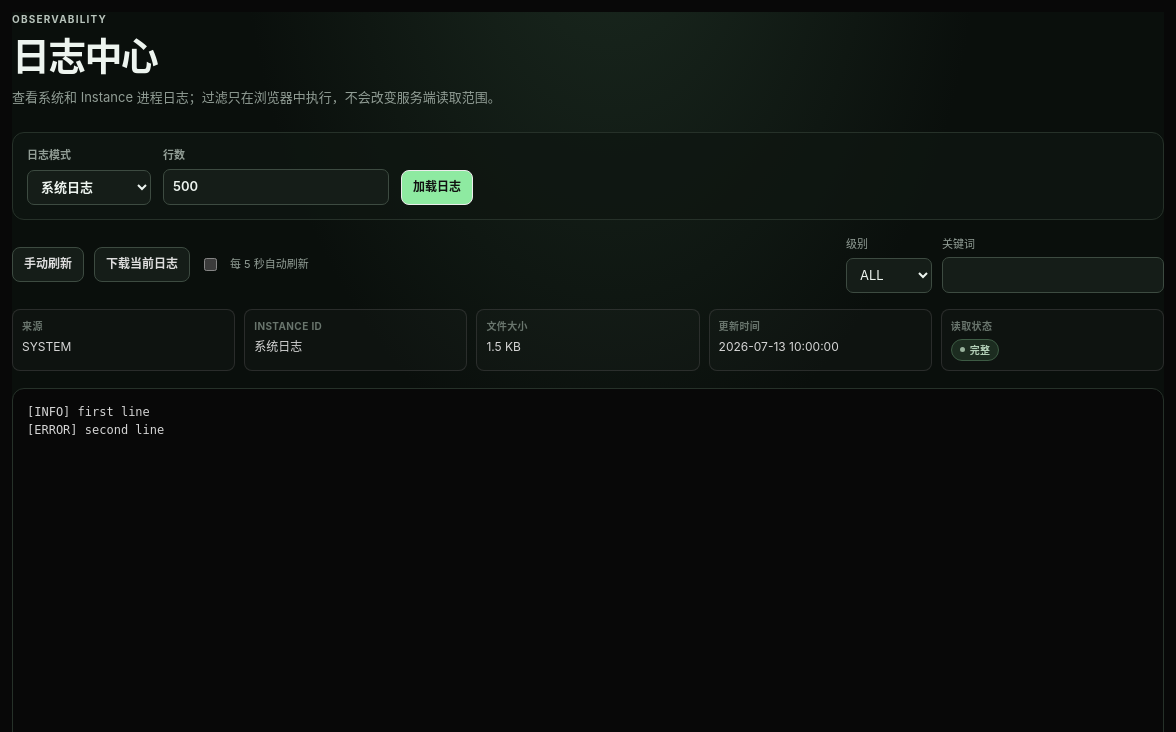
Test: LogsPage › rejects blank Instance IDs and invalid line counts without issuing a request
This screenshot has width=1176, height=732.
Select "Instance 日志" in the dropdown labelled "日志模式" at (89, 187), box [27,170,151,205]
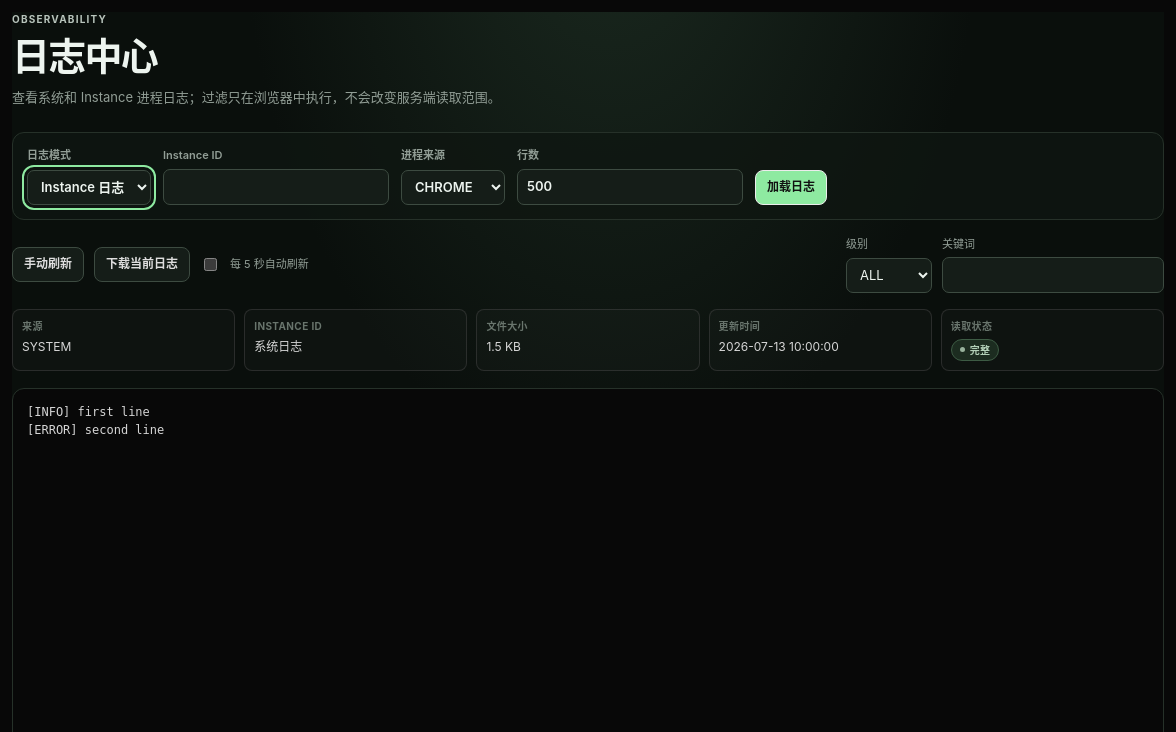
Click the button "加载日志".
click(791, 187)  # box [755,170,827,205]
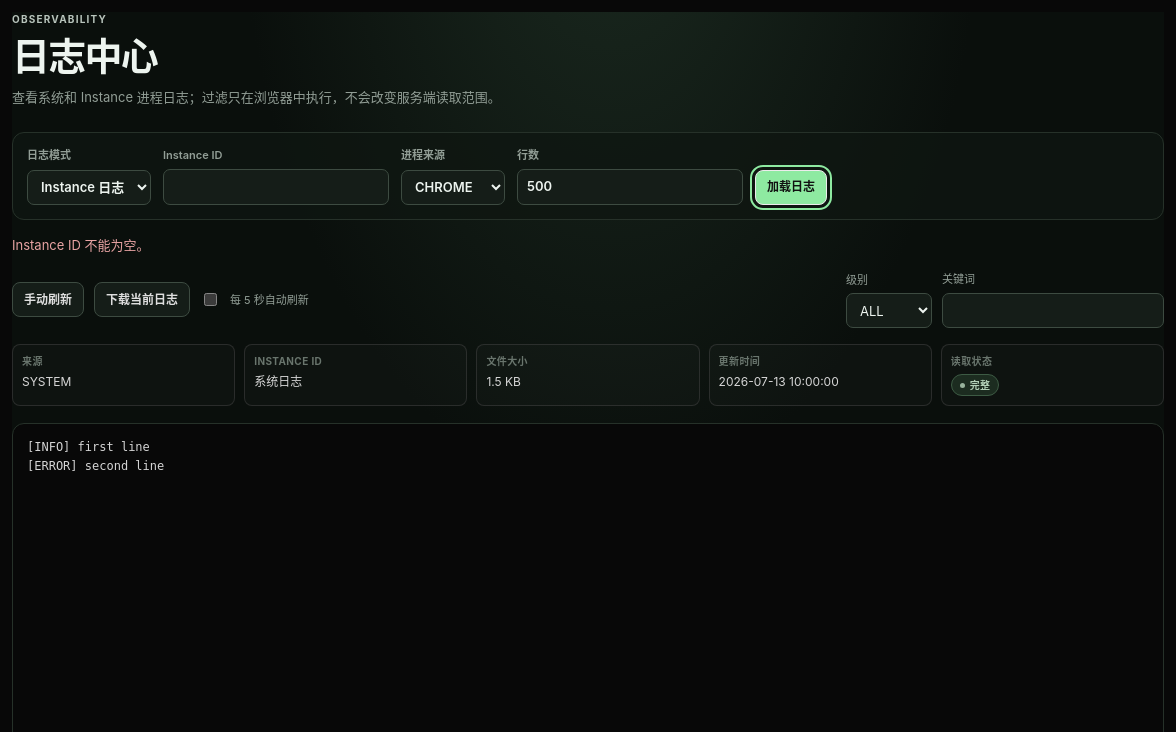
Expected: the message reads "Instance ID 不能为空。", [12,237,150,253]
Type "82e5b937-74f1-47af-b85b-98c7a4ef76a3" into the field labelled "Instance ID".
click(276, 187); type("82e5b937-74f1-47af-b85b-98c7a4ef76a3")  # box [163,169,389,205]
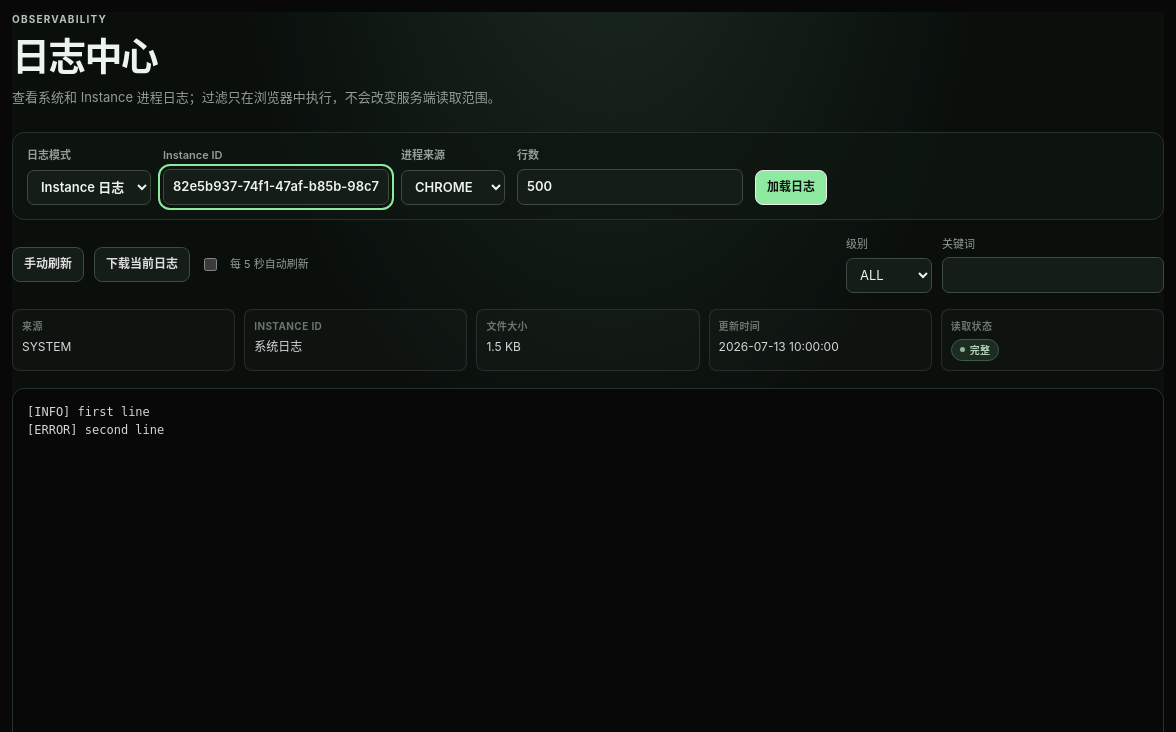
Replace the text in the field labelled "行数" with "5001" at (630, 187), box [517,169,743,205]
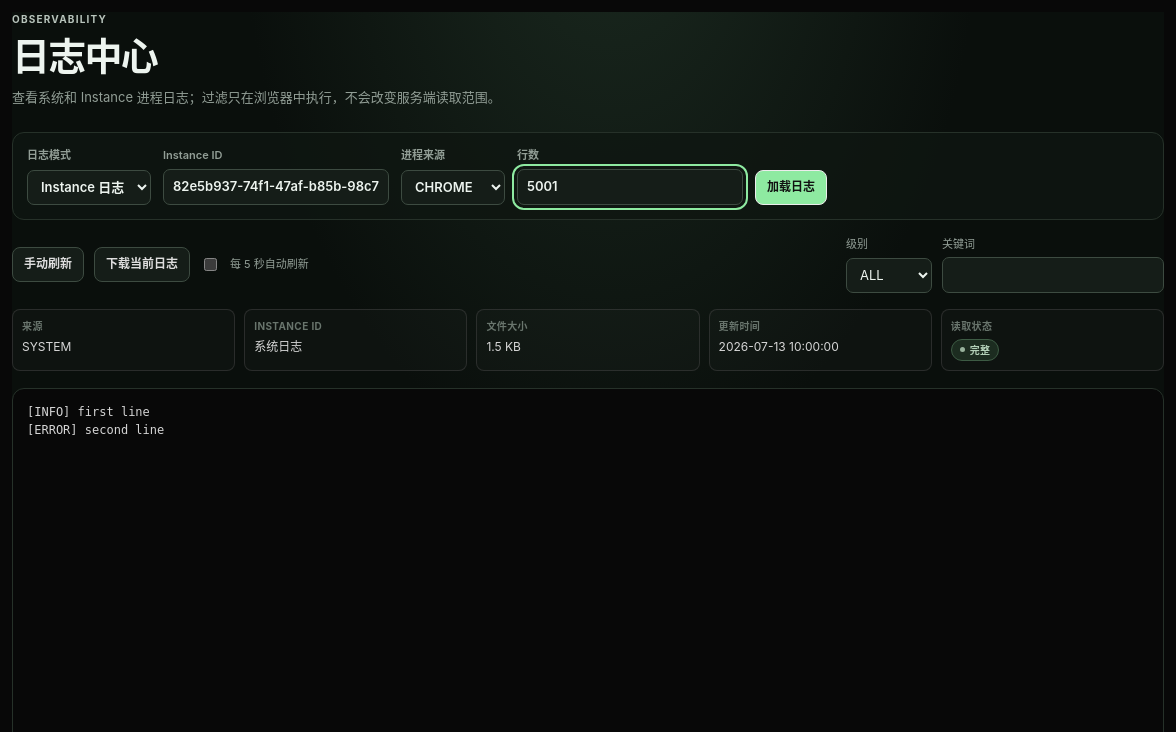
Click the button "加载日志".
click(791, 187)  # box [755,170,827,205]
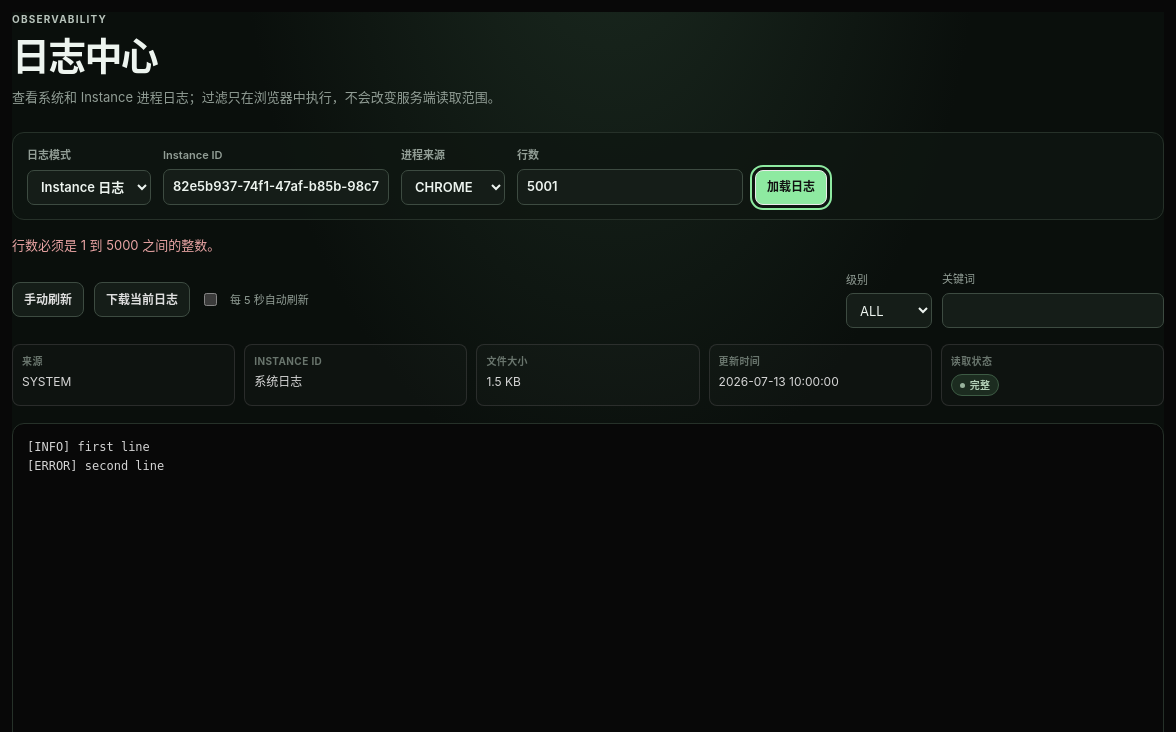
Expected: the message reads "行数必须是 1 到 5000 之间的整数。", [12,237,220,253]
